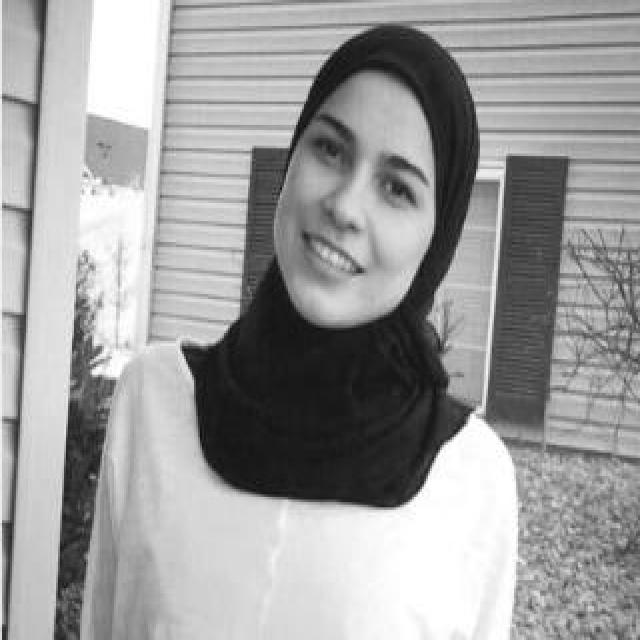Focused: (274, 90, 436, 321)
